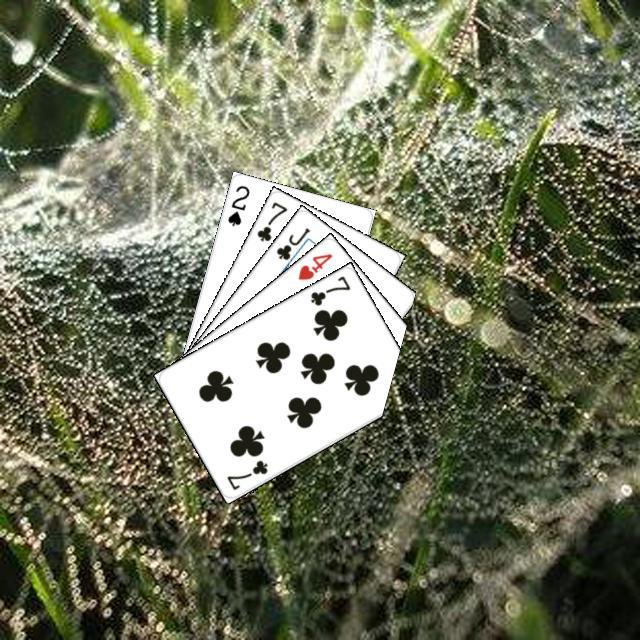2s: (222, 180, 251, 228)
4h: (293, 248, 334, 282)
7c: (305, 271, 352, 308), (222, 455, 269, 492), (252, 197, 289, 243)
Jc: (271, 223, 312, 262)
